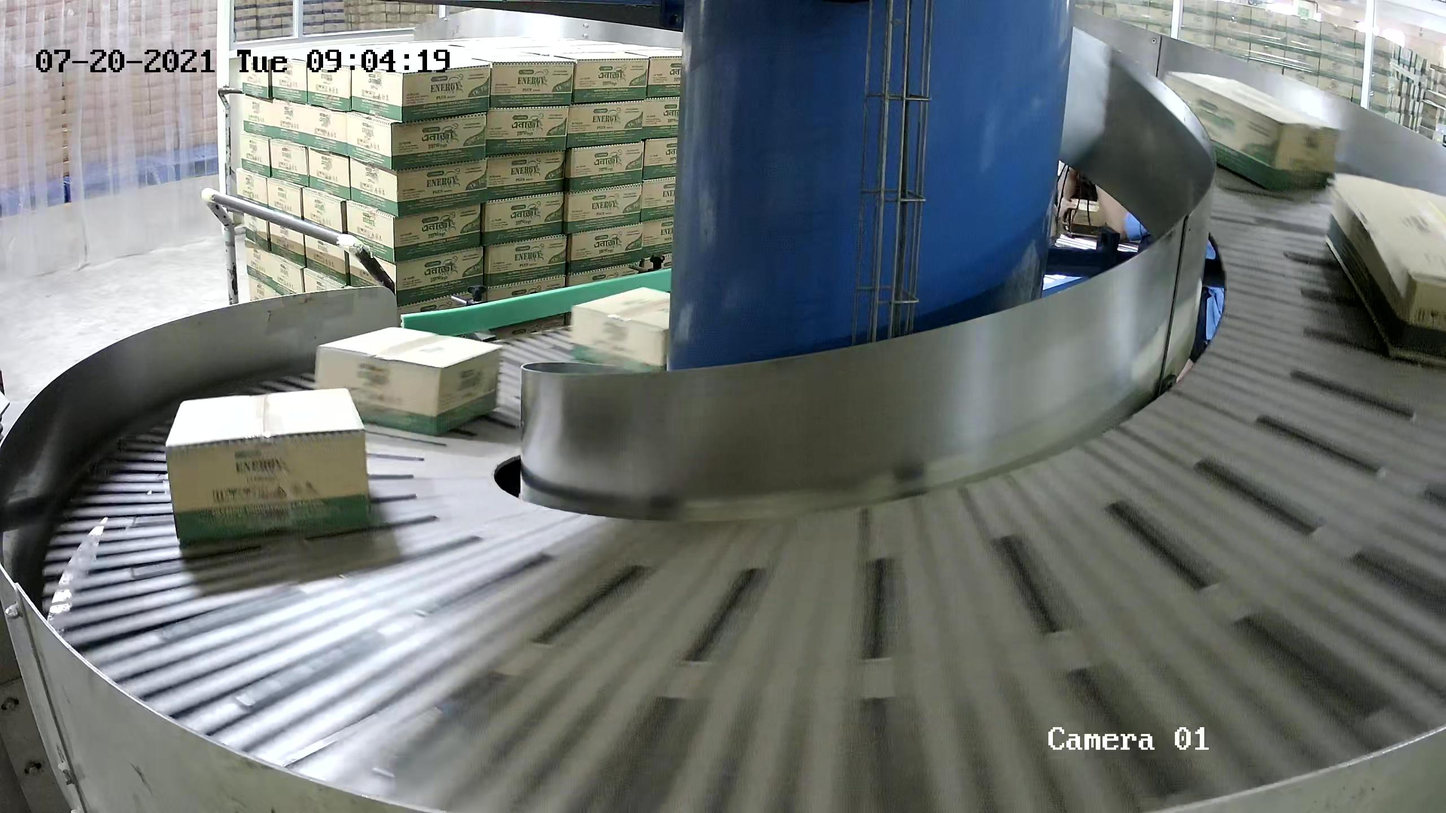Box: (164, 386, 373, 547), (1322, 171, 1446, 365), (1162, 70, 1342, 192), (313, 325, 504, 437), (569, 286, 671, 374)
